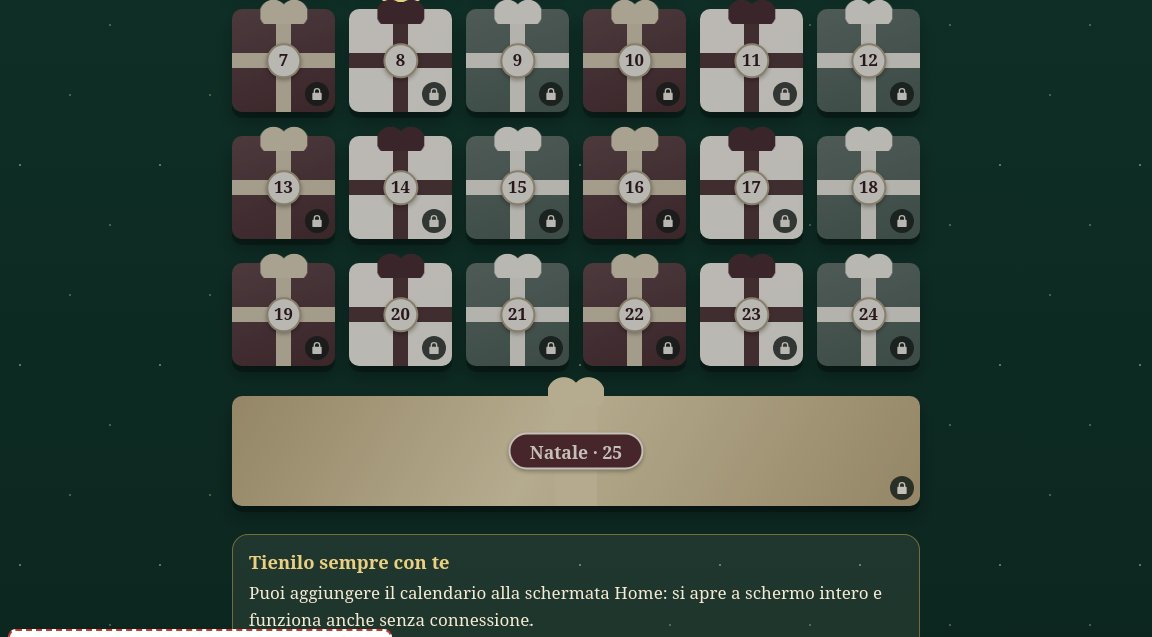
Test: calendario › una casella bloccata non si apre
The image size is (1152, 637).
(page scrolled)
Click the button named "Giorno 20: bloccato" at (400, 315), box [349, 263, 452, 366]
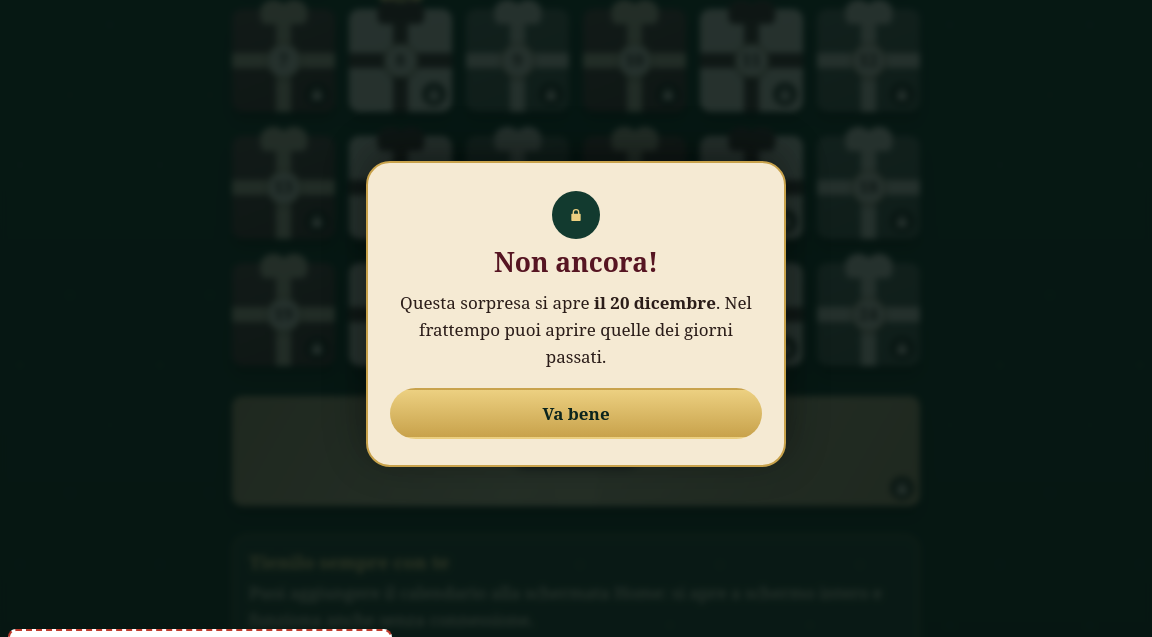
Result: the heading "Non ancora!" is shown at [494, 244, 658, 280]
